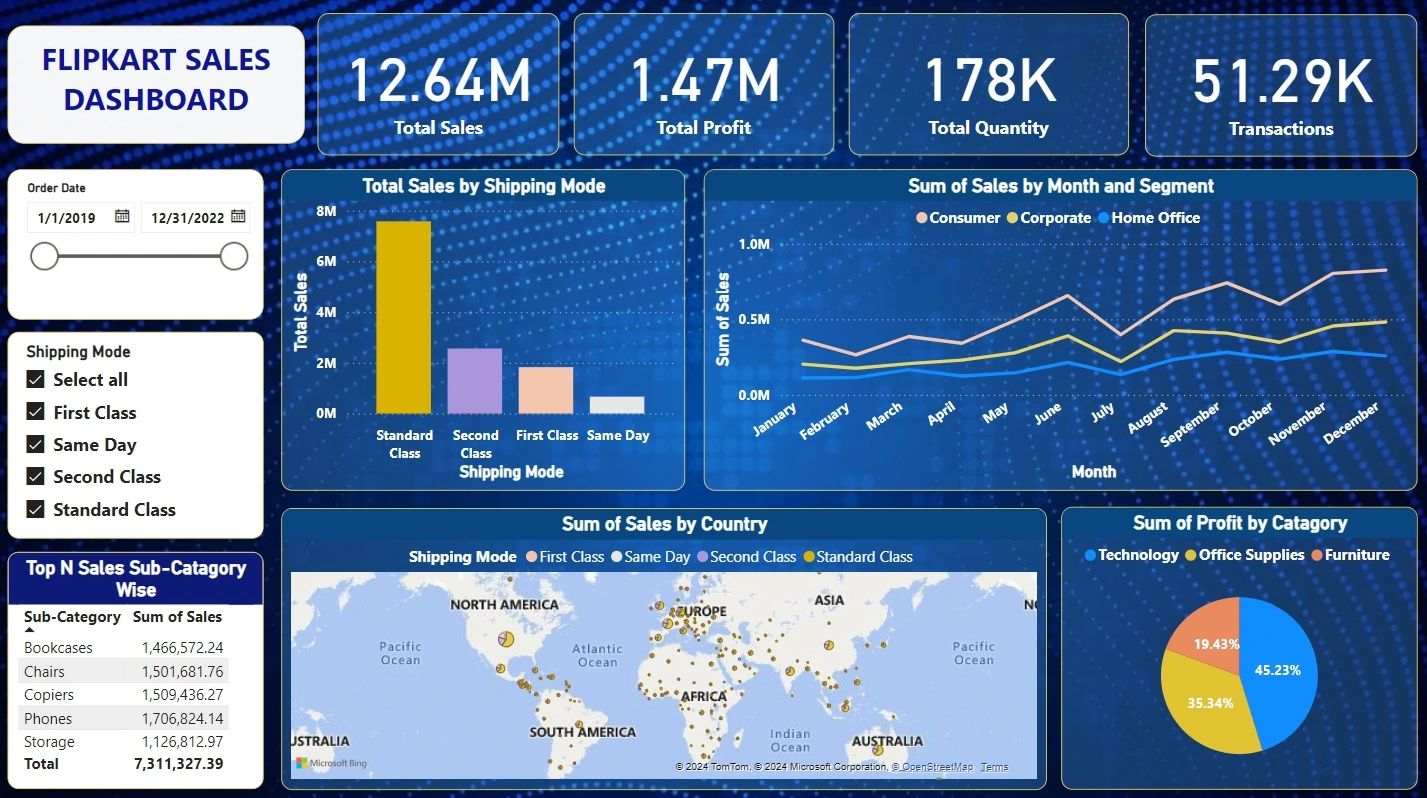

This screenshot's page, from the dashboard's own definition file:
{"tool":"powerbi","page":{"name":"Page 1","canvas":[1280,720],"ordinal":0},"visuals":[{"type":"card","fields":{"Values":["Sum(Sales.Sales)"]},"box":[283.1,13.7,216.1,127.2],"z":0},{"type":"card","fields":{"Values":["Sum(Sales.Profit)"]},"box":[512.9,13.7,232.5,127.2],"z":1000},{"type":"card","fields":{"Values":["Sum(Sales.Quantity)"]},"box":[757.8,13.7,250.3,127.2],"z":2000},{"type":"card","fields":{"Values":["CountNonNull(Sales.Order ID)"]},"box":[1023.1,15,243.5,127.2],"z":3000},{"type":"clusteredColumnChart","title":"Total Sales by Shipping Mode","fields":{"Y":["Sum(Sales.Sales)"],"Category":["Sales.Shipping Mode"]},"box":[251.7,153.2,361.1,287.2],"z":4000},{"type":"actionButton","box":[0,0,100,40],"z":5000},{"type":"pieChart","title":"Sum of Profit by Catagory","fields":{"Category":["Sales.Category"],"Y":["Sum(Sales.Profit)"]},"box":[947.9,454.1,318.7,253],"z":6000},{"type":"lineChart","fields":{"Category":["Sales.Order Date.Variation.Date Hierarchy.Month"],"Y":["Sum(Sales.Sales)"],"Series":["Sales.Segment"]},"box":[629.2,153.2,637.4,287.2],"z":7000},{"type":"map","title":"Sum of Sales by Country","fields":{"Category":["Sales.Country"],"Size":["Sum(Sales.Sales)"],"Series":["Sales.Shipping Mode"]},"box":[251.7,455.5,683.9,251.7],"z":8000},{"type":"tableEx","title":"Top N Sales Sub-Catagory Wise","fields":{"Values":["Sales.Sub-Category","Sum(Sales.Sales)"]},"box":[6.8,495.2,228.4,212],"z":9000},{"type":"slicer","fields":{"Values":["Sales.Shipping Mode"]},"box":[6.8,298.2,228.4,184.7],"z":10000},{"type":"slicer","fields":{"Values":["Sales.Order Date"]},"box":[6.8,153.2,228.4,134],"z":11000},{"type":"textbox","box":[6.8,24.6,265.4,105.3],"z":12000}]}

Visuals, with their boxes in screenshot pixels (x1, y1, x2, y2), scaled from the page's 1280x720 canvas onto the 1427x798 screenshot:
card - Sum(Sales.Sales): locate(316, 15, 557, 156)
card - Sum(Sales.Profit): locate(572, 15, 831, 156)
card - Sum(Sales.Quantity): locate(845, 15, 1124, 156)
card - CountNonNull(Sales.Order ID): locate(1141, 17, 1412, 158)
"Total Sales by Shipping Mode" clusteredColumnChart: locate(281, 170, 683, 488)
actionButton: locate(0, 0, 111, 44)
"Sum of Profit by Catagory" pieChart: locate(1057, 503, 1412, 784)
lineChart - Sales.Order Date.Variation.Date Hierarchy.Month x Sum(Sales.Sales): locate(701, 170, 1412, 488)
"Sum of Sales by Country" map: locate(281, 505, 1043, 784)
"Top N Sales Sub-Catagory Wise" tableEx: locate(8, 549, 262, 784)
slicer - Sales.Shipping Mode: locate(8, 331, 262, 535)
slicer - Sales.Order Date: locate(8, 170, 262, 318)
textbox: locate(8, 27, 303, 144)
